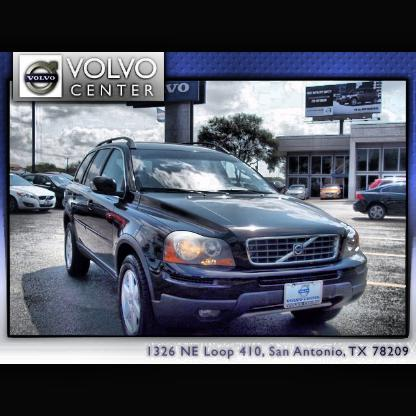Volvo XC90 SUV 2007: (66, 138, 369, 338)
